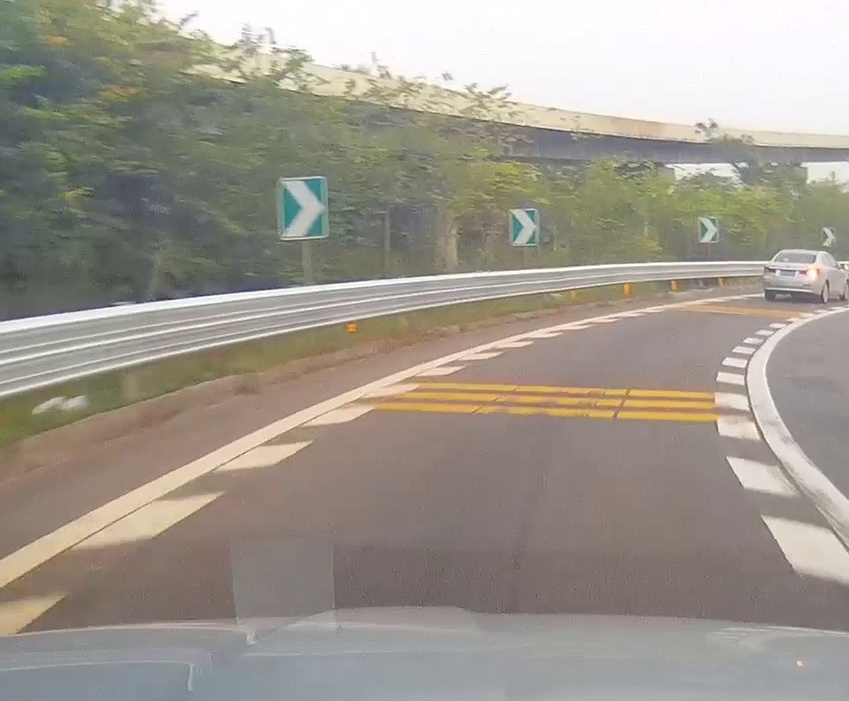L_light: (764, 266, 776, 274)
R_light: (798, 268, 819, 275)
T_light: (794, 253, 802, 255)
day-right: (762, 248, 820, 303)
